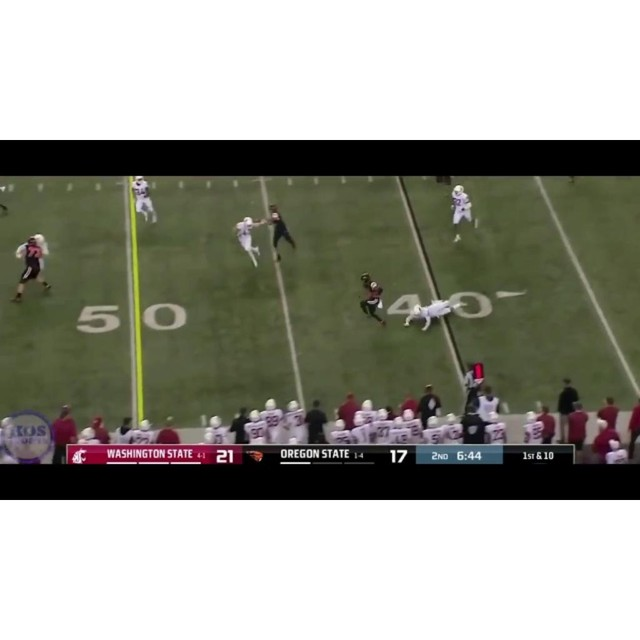american-football-player: (10, 235, 52, 302), (403, 297, 461, 332), (265, 204, 297, 263), (448, 184, 478, 243), (358, 273, 387, 327), (234, 216, 262, 267), (131, 176, 158, 223)
